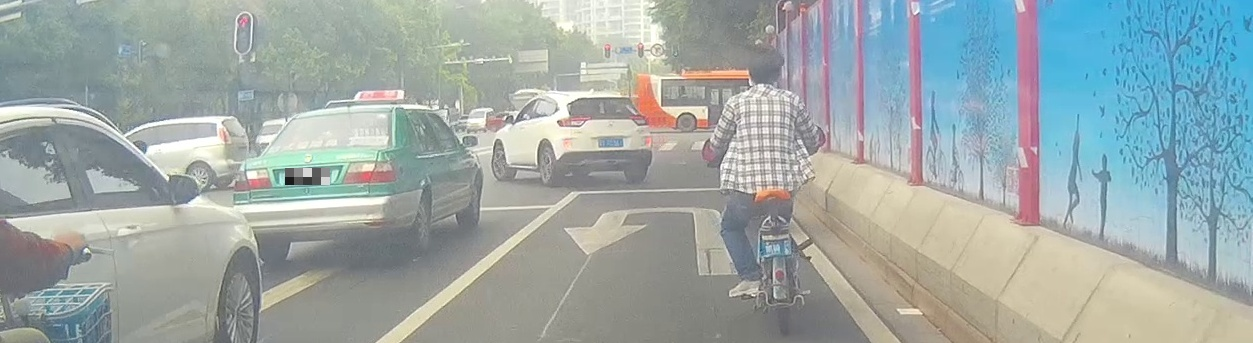L_light: (234, 167, 272, 191), (557, 114, 591, 127)
R_light: (342, 161, 396, 184), (629, 115, 649, 125)
T_light: (327, 115, 352, 120), (599, 98, 612, 102)
day-left: (556, 95, 652, 184)
day-no: (234, 107, 398, 263)
plate_1: (285, 168, 330, 185)
